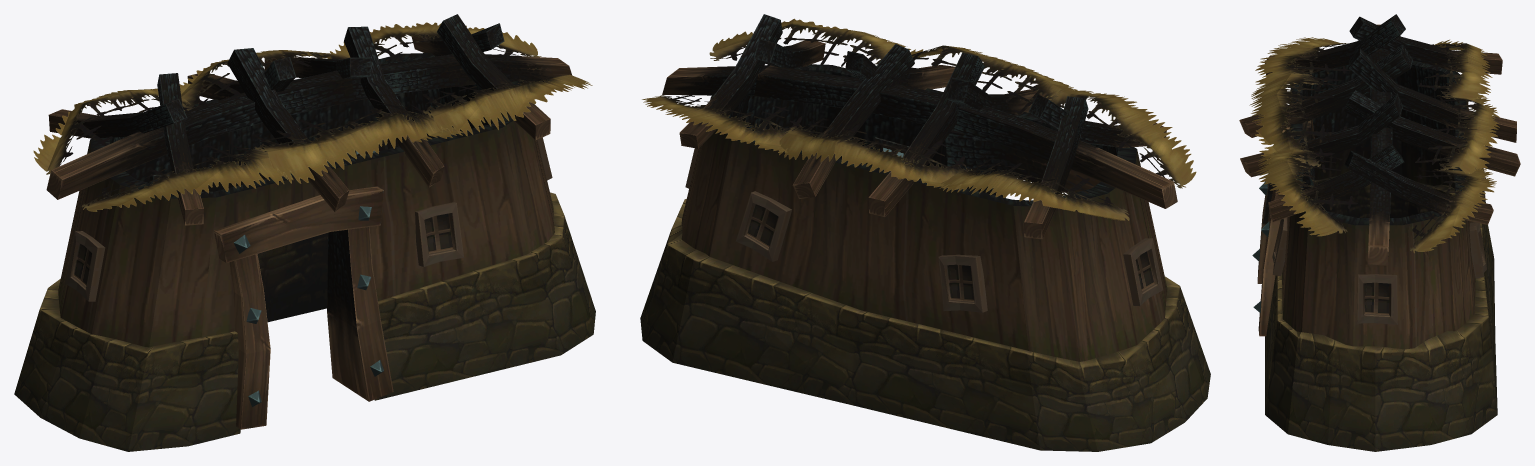
The model's file is bandit_hut_burn_03.fbx.
The picture shows the model from 3 angles, left to right: view 1: azimuth 30°, elevation 25°; view 2: azimuth 150°, elevation 25°; view 3: azimuth 270°, elevation 25°; orthographic projection. The views are drawn at different scales.
Parts seen in each view (by area): view 1: obj4.004; view 2: obj4.004; view 3: obj4.004.
Part boxes in pixels (x1,y1,x2,y2): obj4.004: (14, 14, 595, 451); obj4.004: (640, 14, 1210, 451); obj4.004: (1239, 14, 1520, 451).
Bounding box in the file's own units: 10.89 × 5.97 × 5.67.
